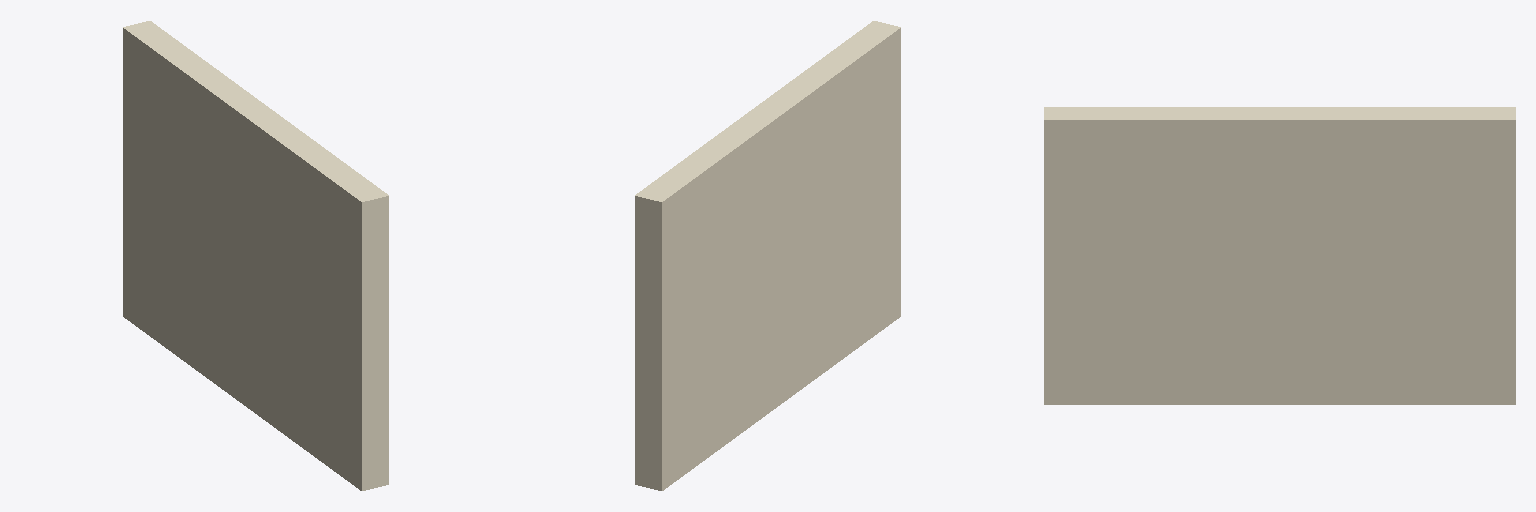
robot.urdf — wall:
<robot name="wall">
  <link name="wall">
    <collision>
      <origin xyz="0 0 1.0" />
      <geometry>
        <box size="0.2 3.0 2.0" />
      </geometry>
    </collision>
    <visual>
      <origin xyz="0 0 1.0" />
      <material name="wall">
        <color rgba="0.93 0.90 0.82 1.0" />
      </material>
      <geometry>
        <box size="0.2 3.0 2.0" />
      </geometry>
    </visual>
  </link>
</robot>

--- Render facts (derived) ---
3 views of the same robot in one strip: view 1: azimuth 30°, elevation 25°; view 2: azimuth 150°, elevation 25°; view 3: azimuth 270°, elevation 25° (orthographic).
Model wall with 1 links and 0 joints (none), rooted at wall, posed every joint at zero.
Visible links, largest first — view 1: wall; view 2: wall; view 3: wall.
Boxes of the visible links, x1,y1,x2,y2 form: wall: (123,21,388,490); wall: (635,21,900,490); wall: (1044,107,1515,404).
Size in the robot's own frame: 0.2 by 3 by 2 metres.
Geometry: primitives only (box / cylinder / sphere), no mesh files.